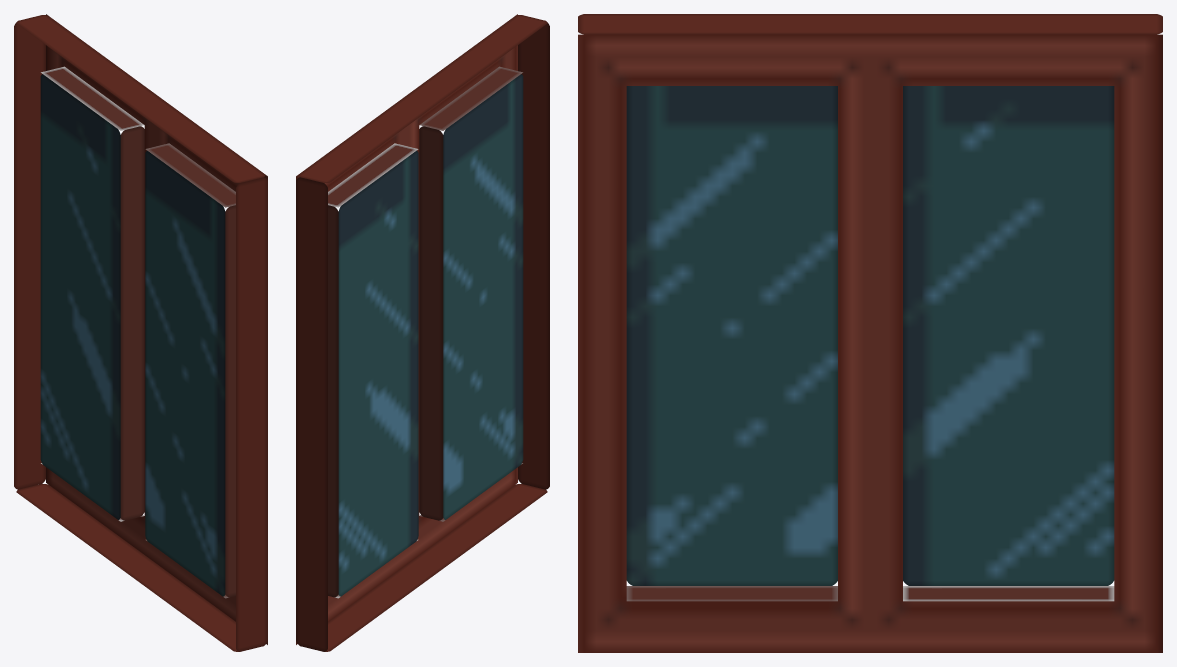
File: WindowWood2SmallLarge.fbx
3 renders of one model, left to right at view 1: azimuth 30°, elevation 25°; view 2: azimuth 150°, elevation 25°; view 3: azimuth 270°, elevation 25°, orthographic. The views are drawn at different scales.
Visible parts, largest first — view 1: Plane; view 2: Plane; view 3: Plane.
Boxes of the visible parts, bbox=[...] form: Plane: bbox=[14, 14, 267, 651]; Plane: bbox=[296, 14, 549, 651]; Plane: bbox=[578, 14, 1162, 652].
Bounding box in the file's own units: 6.25 × 87.5 × 75.
Materials: 1 (1 with a texture image).
